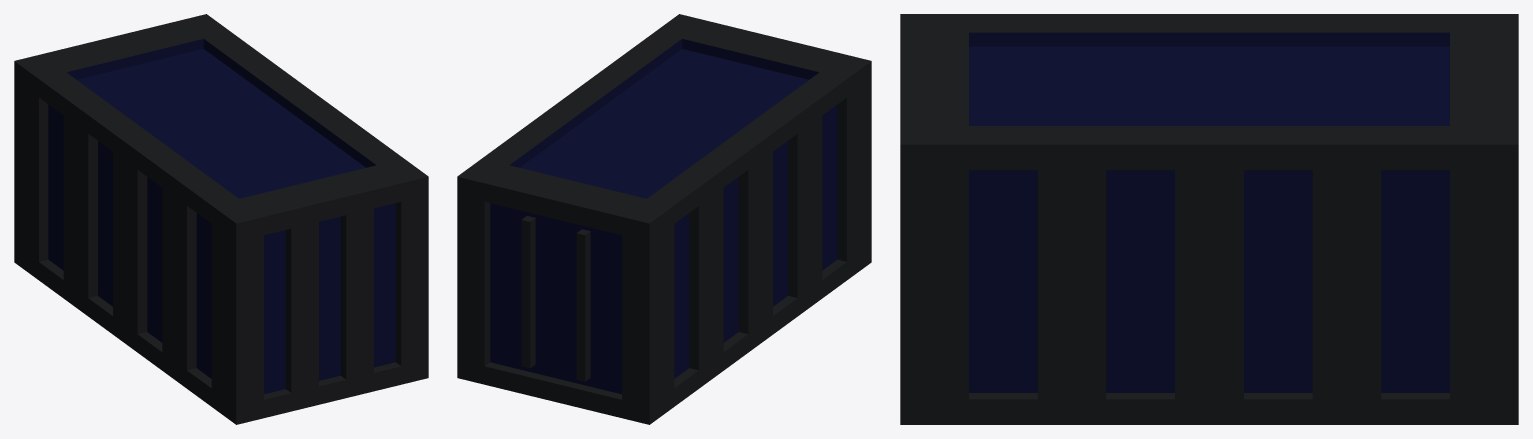
Rendered from shiipingContainer_01.FBX.
3 renders of one model, left to right at view 1: azimuth 30°, elevation 25°; view 2: azimuth 150°, elevation 25°; view 3: azimuth 270°, elevation 25°, orthographic. The views are drawn at different scales.
Parts seen in each view (by area): view 1: Box001; view 2: Box001; view 3: Box001.
Boxes of the visible parts, x1,y1,x2,y2 form: Box001: (14,14,428,424); Box001: (457,14,871,424); Box001: (900,14,1518,424).
Bounding box in the file's own units: 40 × 40 × 80.
